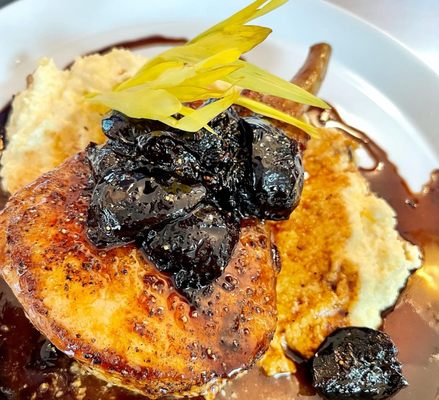sandwich: (8, 17, 433, 398), (1, 64, 299, 391)
